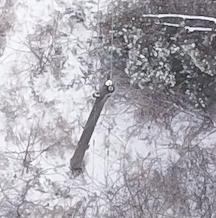pole: (72, 66, 124, 178)
